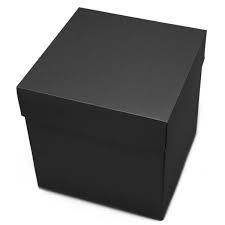cube: (19, 6, 207, 225)
